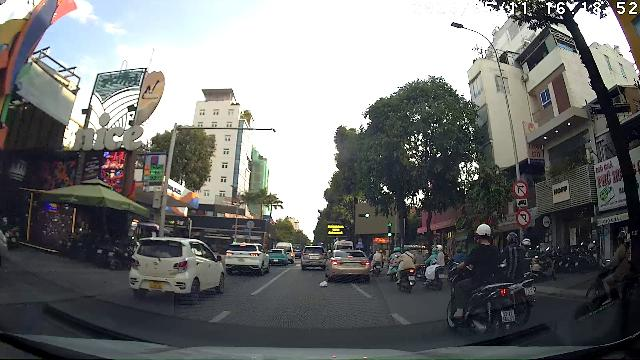123a-cam-re-trai: (515, 209, 531, 227)
123b-cam-re-phai: (512, 180, 529, 198)
